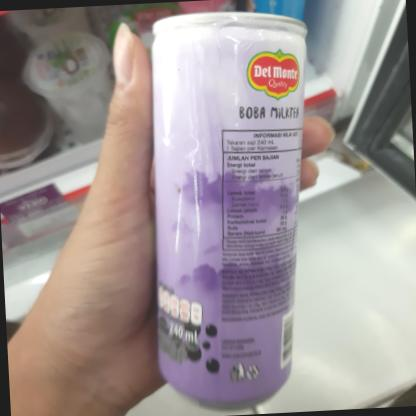alumunium_can: (102, 0, 363, 416)
